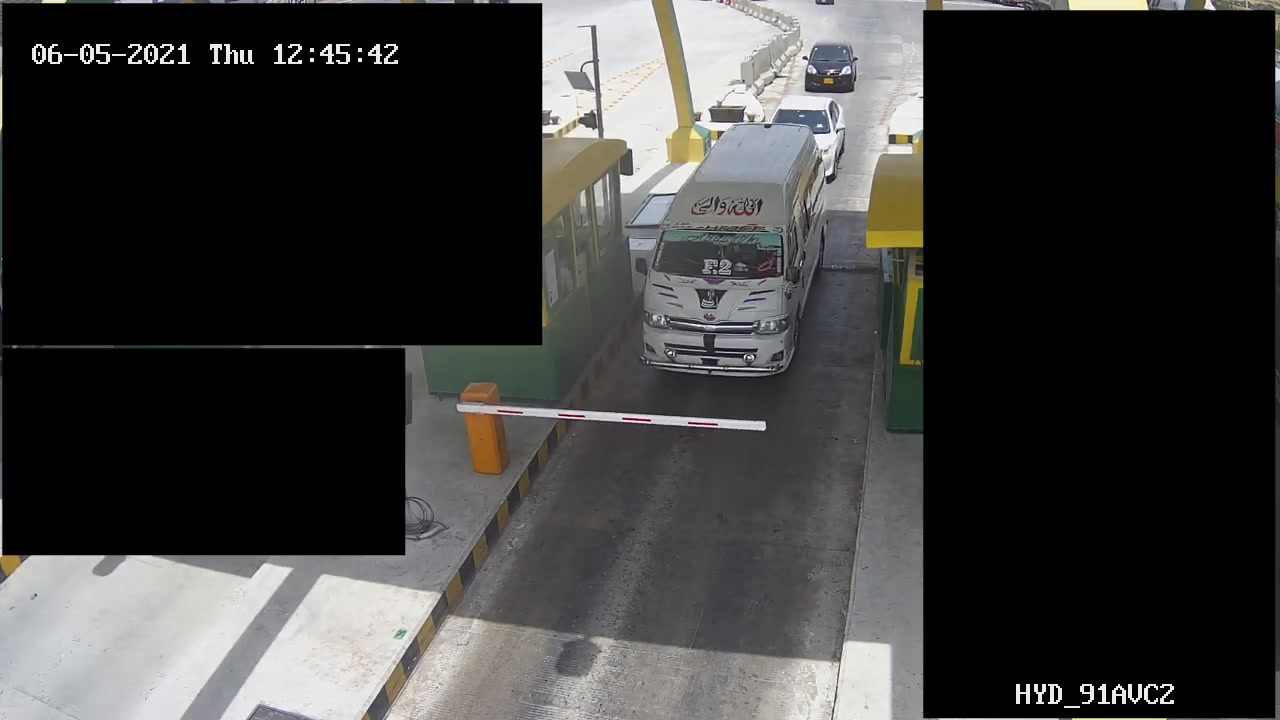F2: (632, 124, 842, 389)
